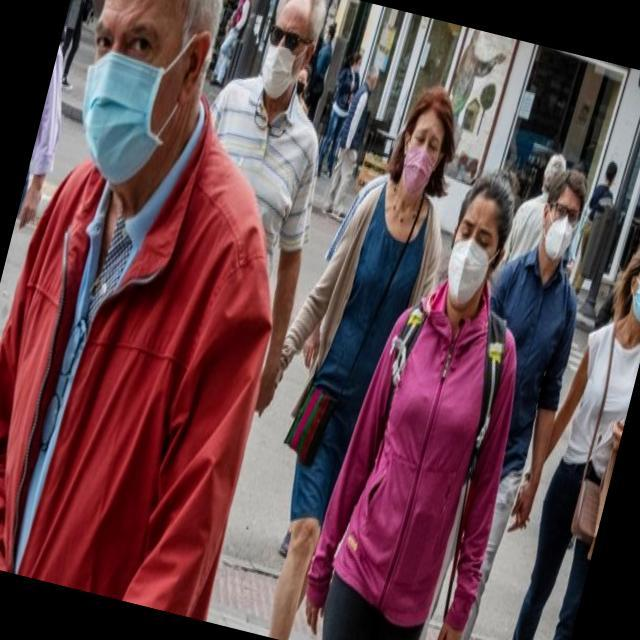person: (0, 0, 357, 620), (205, 62, 479, 640), (284, 145, 575, 640), (130, 0, 388, 451), (406, 149, 612, 640), (465, 207, 640, 640), (312, 54, 396, 230), (295, 4, 356, 138)
